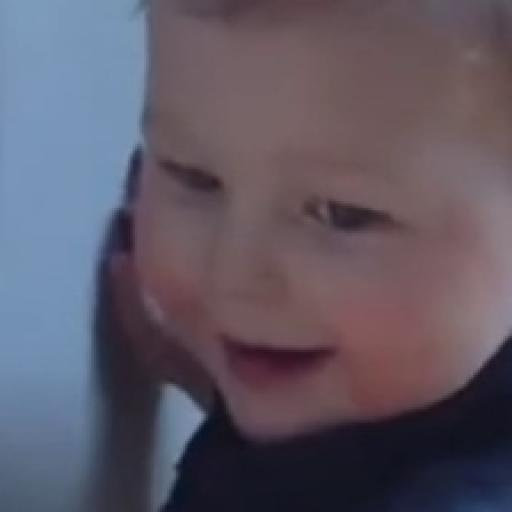Autism: (137, 0, 512, 435)
